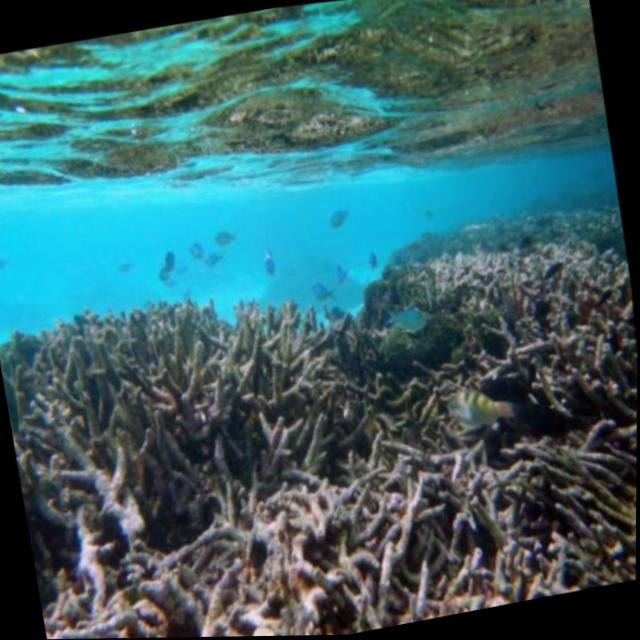Dead Coral: (0, 193, 639, 640)
